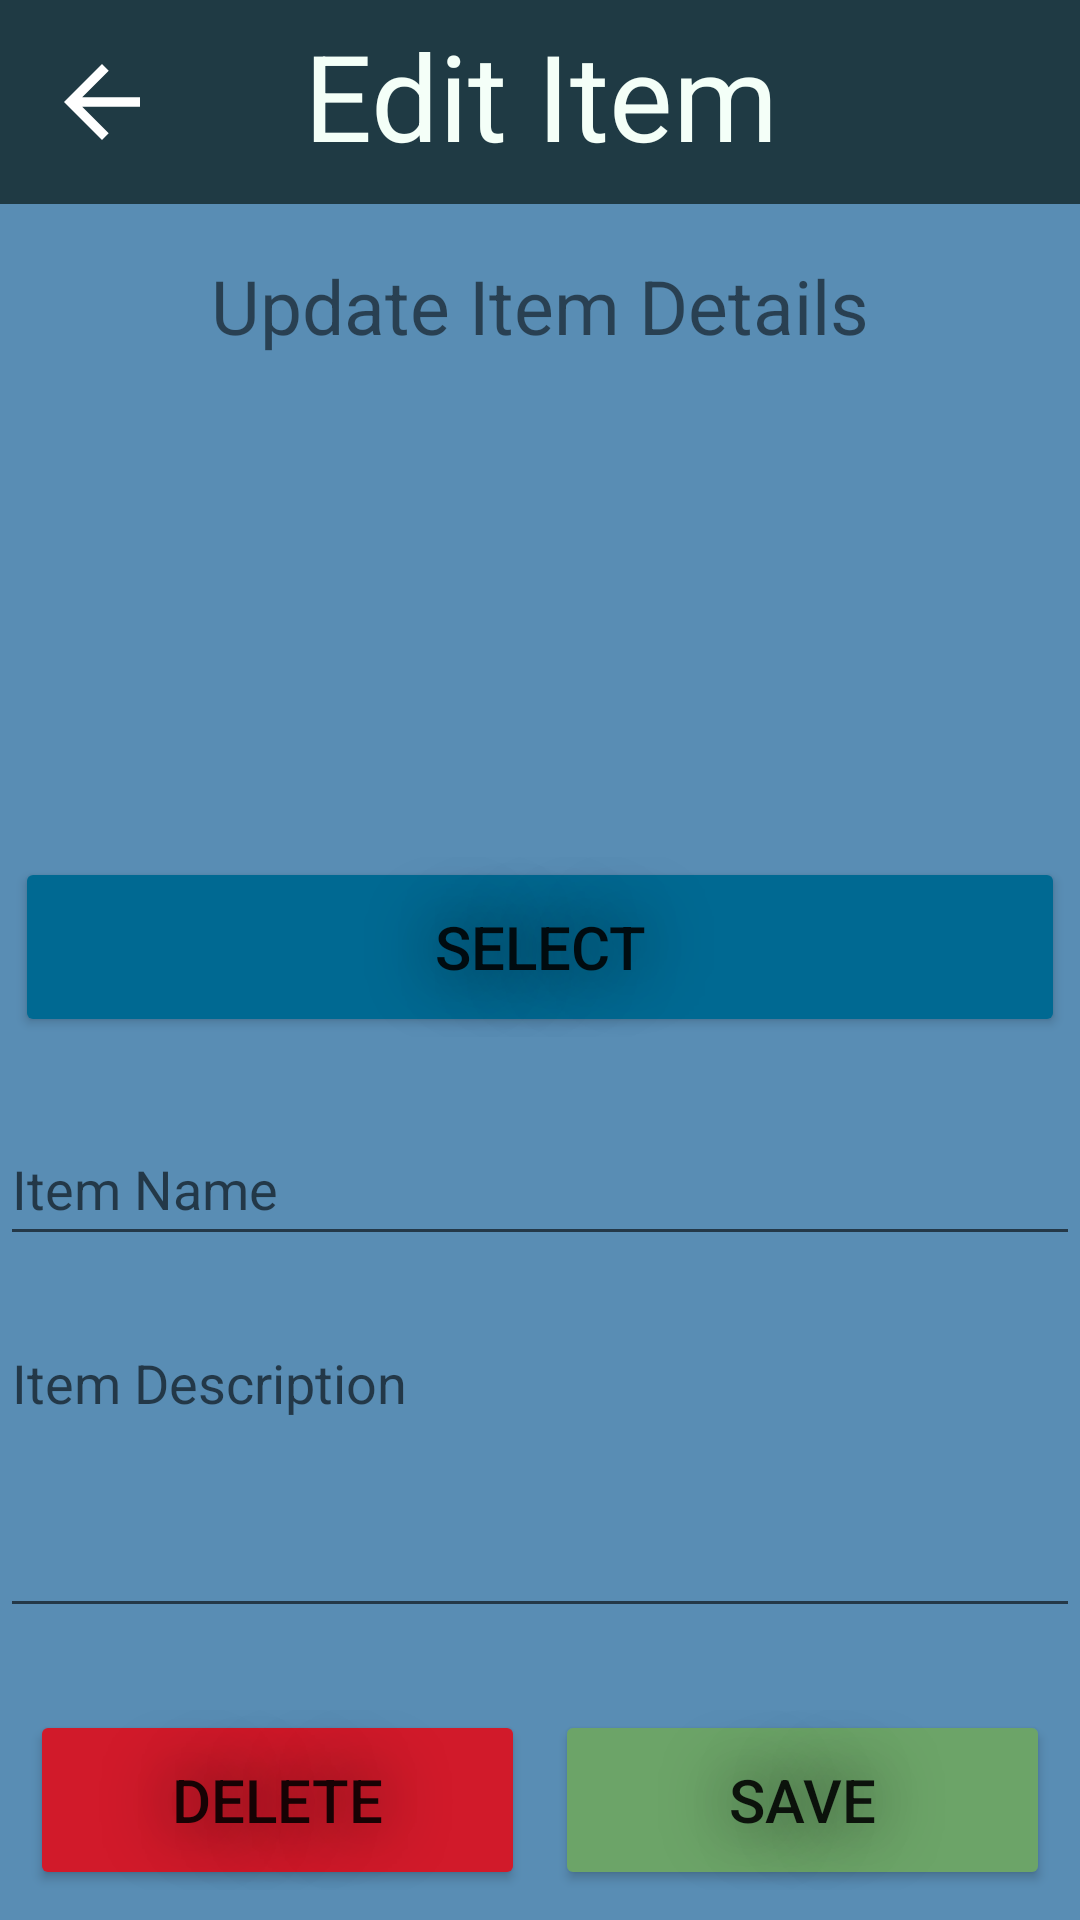

Named icons in this screenshot (1080px×1920px) and their centers, [x,y]:
arrow: [102,102]
